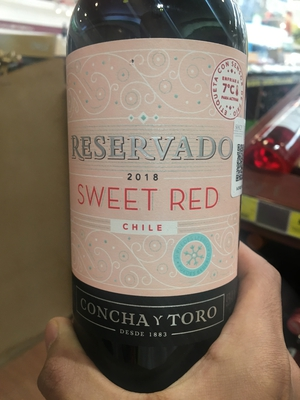reservado sweet red: (61, 1, 245, 361)
